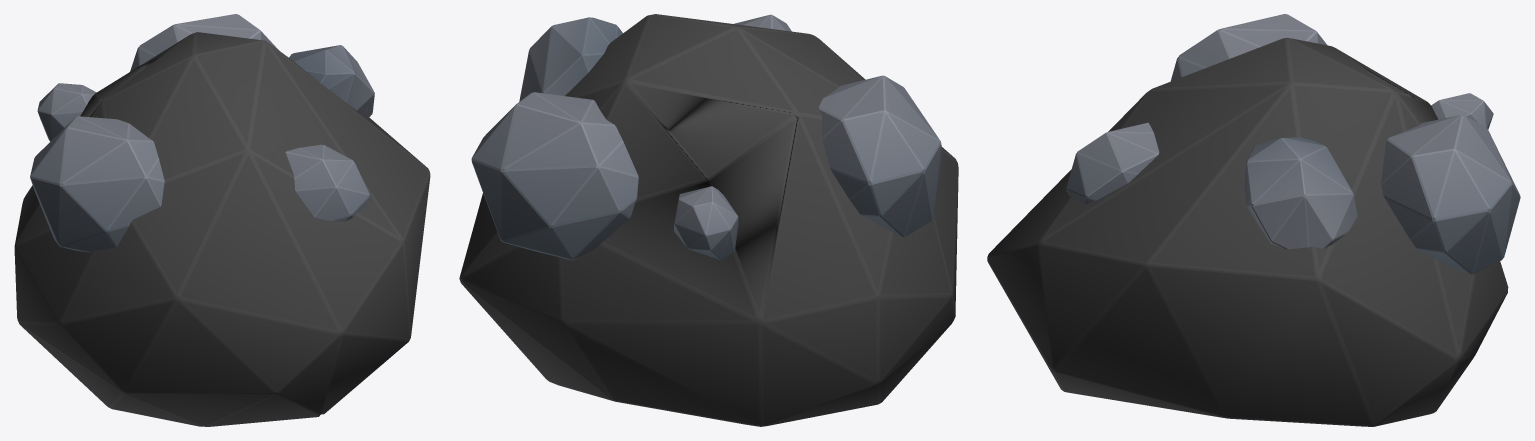
The model's file is Ore_Iron_2.glb.
3 views of the same model, side by side, from view 1: azimuth 30°, elevation 25°; view 2: azimuth 150°, elevation 25°; view 3: azimuth 270°, elevation 25° (orthographic). The views are drawn at different scales.
Visible parts, largest first — view 1: Ore_Iron_2; view 2: Ore_Iron_2; view 3: Ore_Iron_2.
Boxes of the visible parts, box(x1,y1,x2,y2) form: Ore_Iron_2: box(14, 14, 430, 426); Ore_Iron_2: box(459, 14, 958, 426); Ore_Iron_2: box(987, 14, 1520, 426).
Size of the model in its own units: 1.38 by 1.2 by 1.59.
